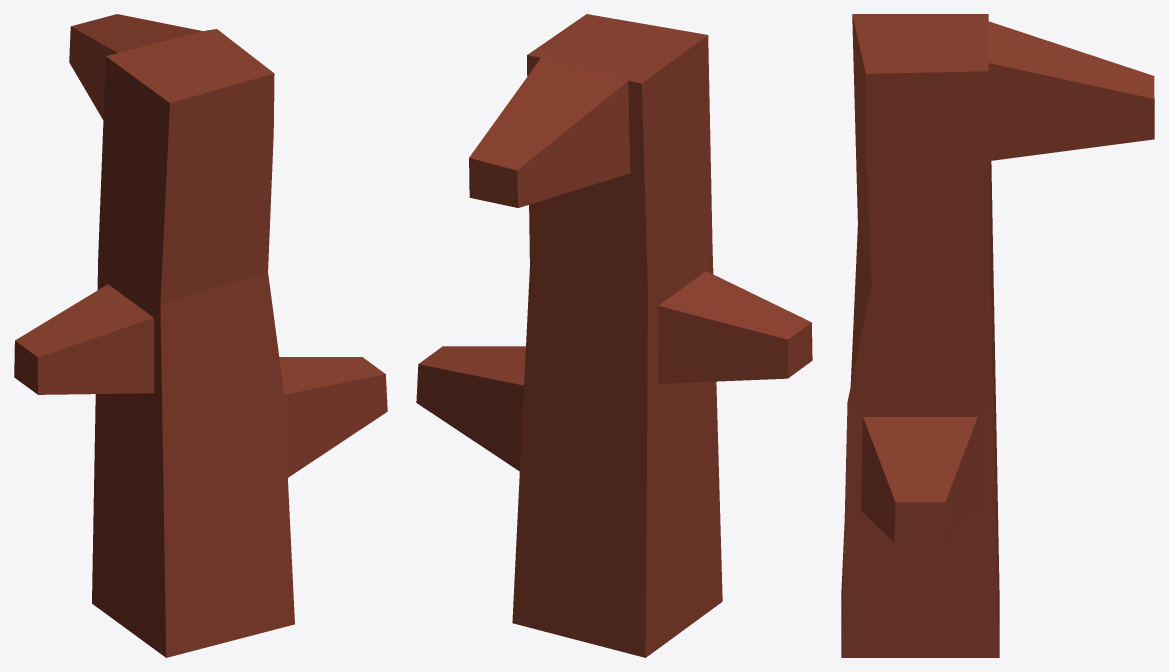
The model's file is treelog_1b.fbx.
The picture shows the model from 3 angles, left to right: view 1: azimuth 30°, elevation 25°; view 2: azimuth 150°, elevation 25°; view 3: azimuth 270°, elevation 25°; orthographic projection. The views are drawn at different scales.
Visible parts, largest first — view 1: treelog_1b; view 2: treelog_1b; view 3: treelog_1b.
Boxes of the visible parts, x1,y1,x2,y2 form: treelog_1b: [14, 14, 387, 657]; treelog_1b: [416, 14, 812, 657]; treelog_1b: [841, 14, 1154, 657].
Size of the model in its own units: 137 by 204 by 99.02.
